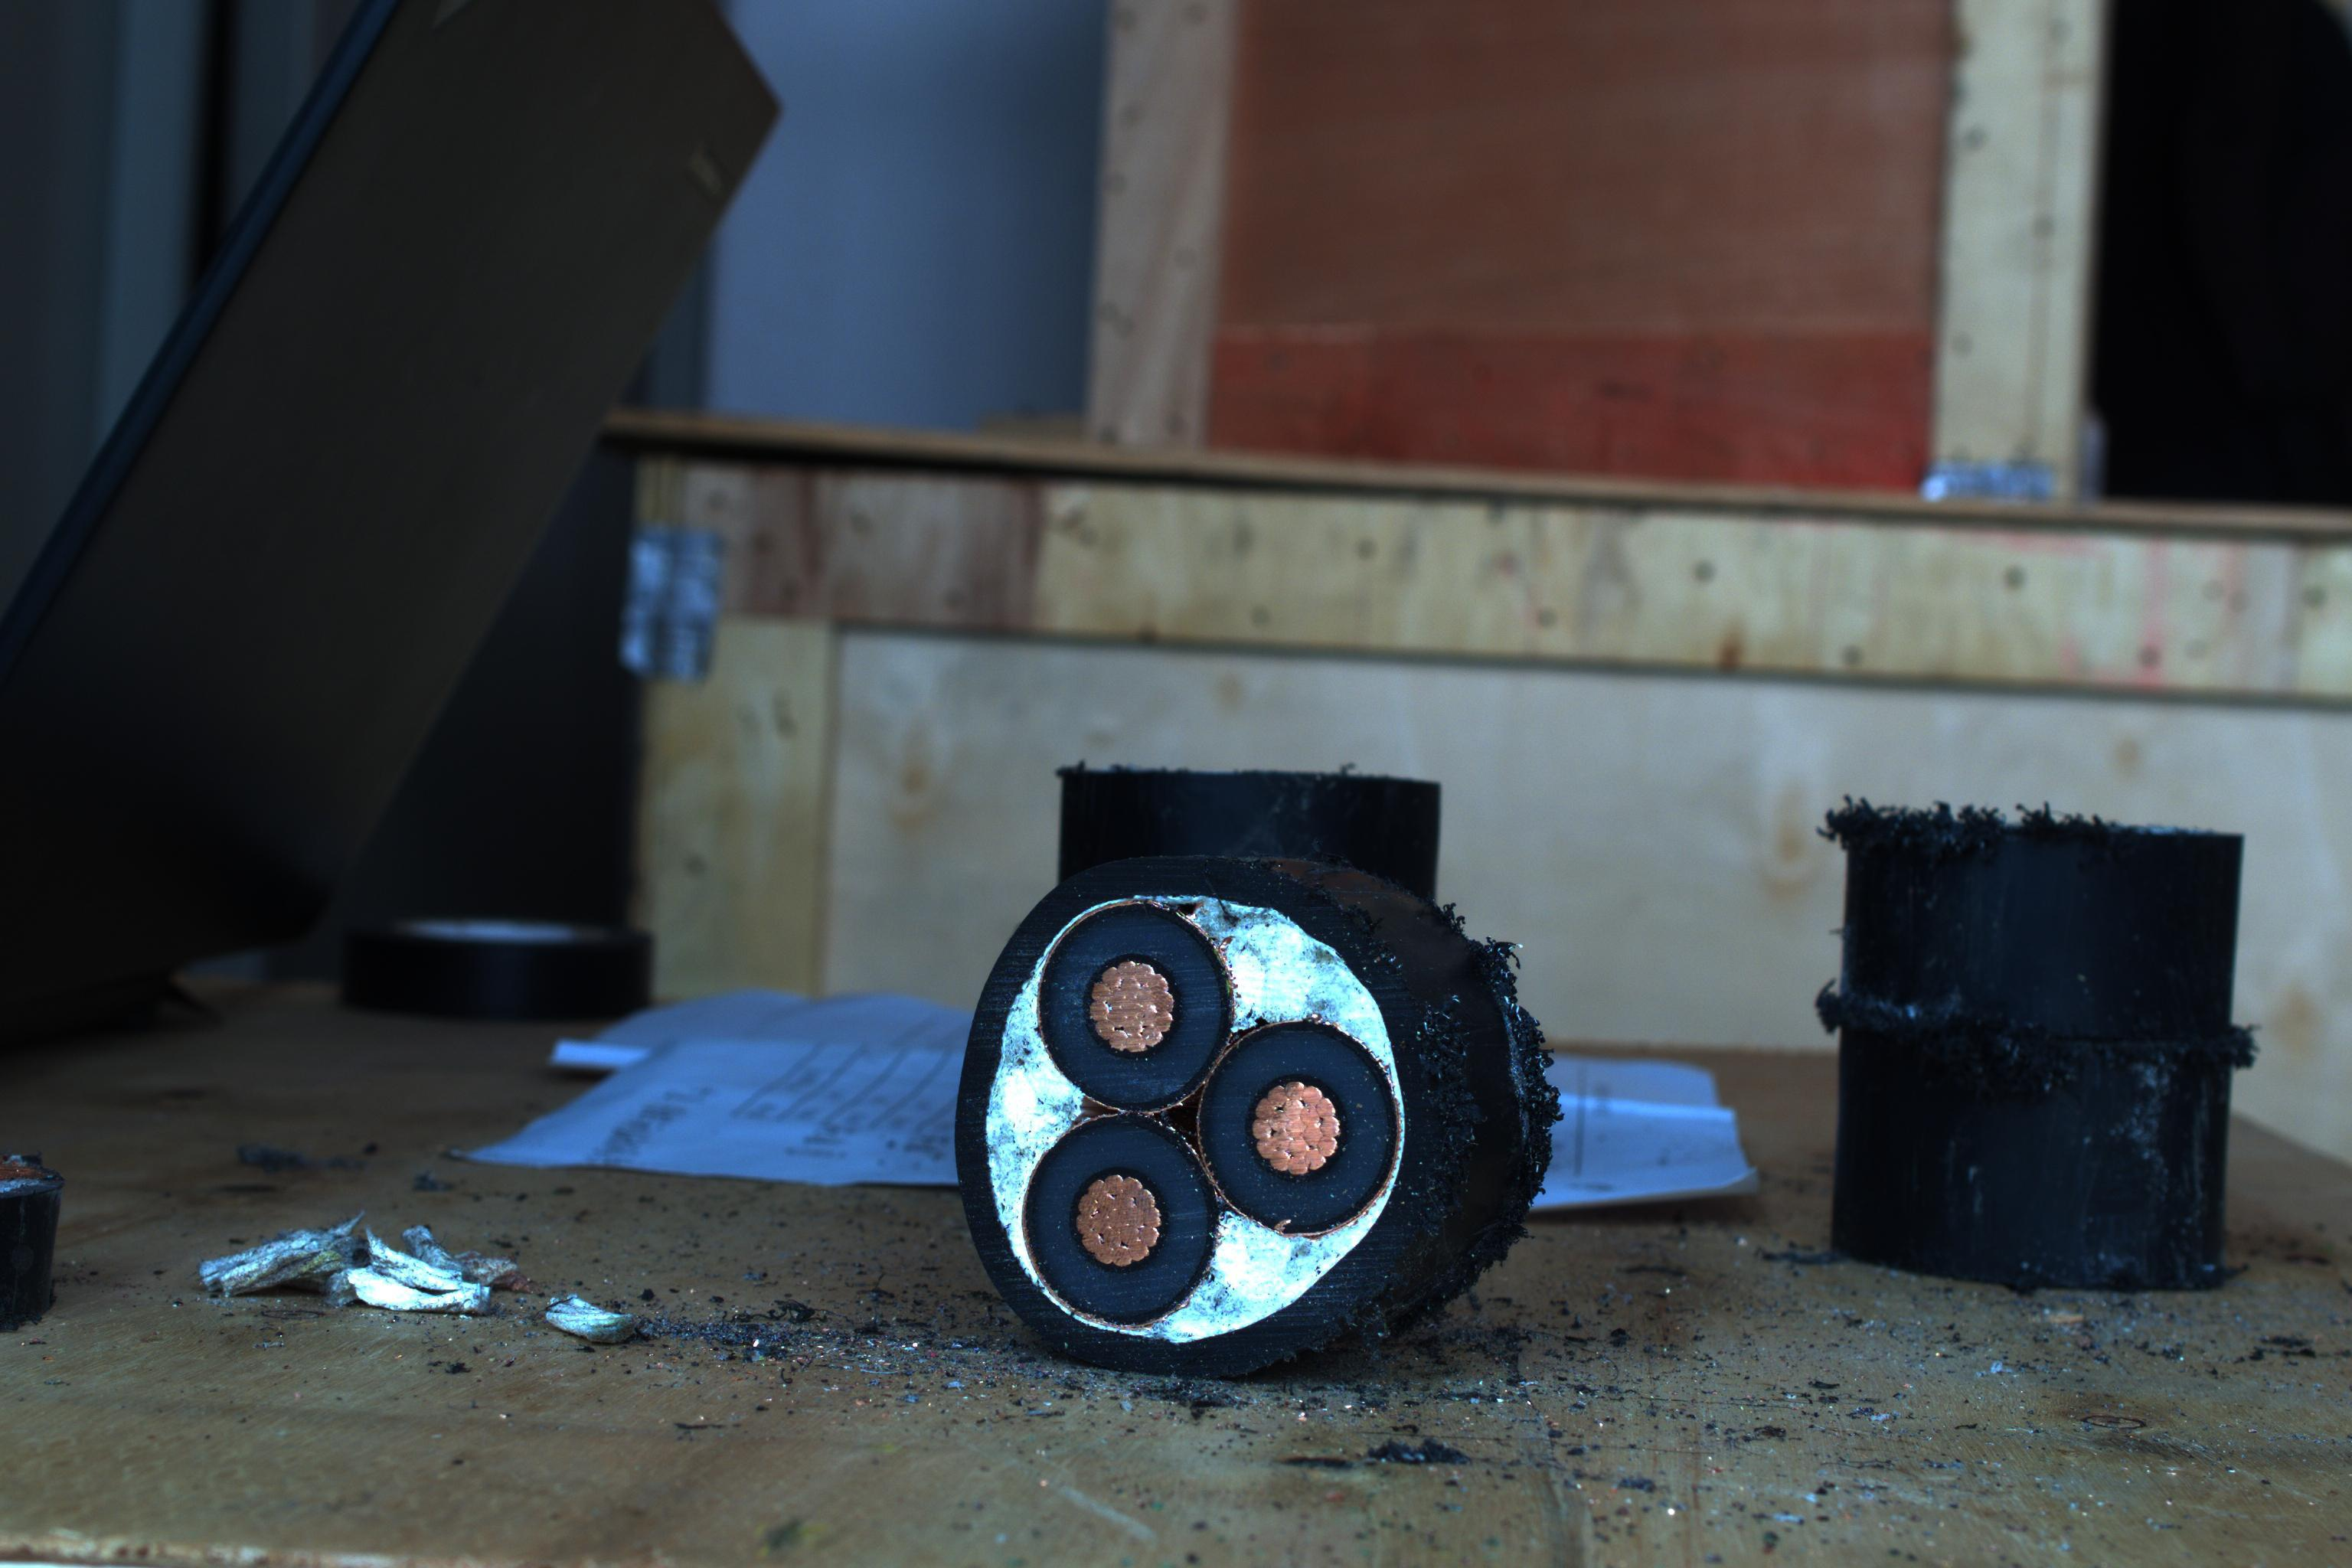YJV_8.7_10kV_3x70: (950, 863, 1449, 1384)
